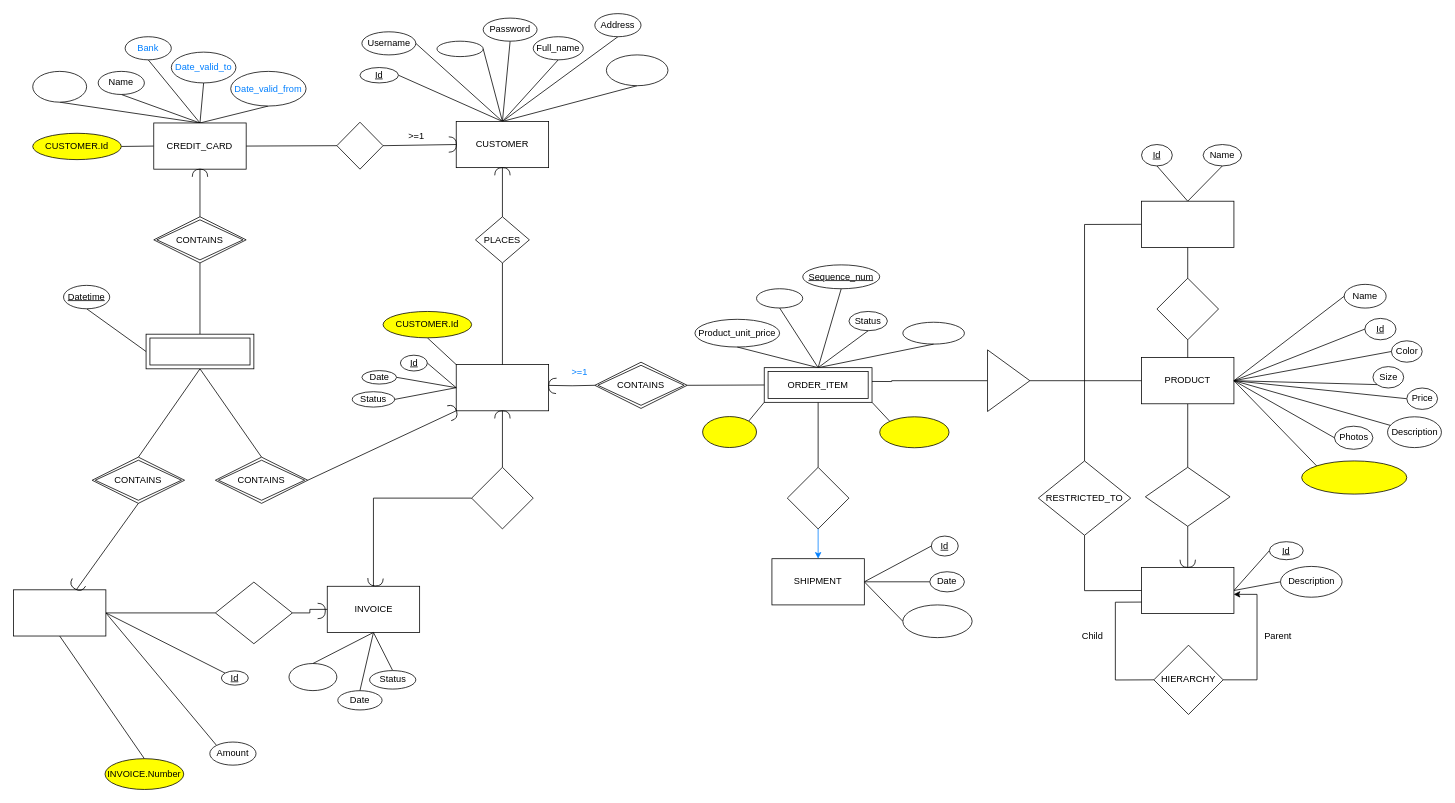
This 1455x803 diagram has some shape labels left out. Here are the shapes that lost their labels. From the top down, the centre of each, then its label:
the point at 459,48: Email
the point at 59,86: Card_num
the point at 637,70: Phone_num
the point at 359,145: HAS
the point at 1187,223: SHOP
the point at 779,298: Quantity
the point at 1187,308: SELLS
the point at 199,351: PAYMENT_RECORD
the point at 933,332: Order_price
the point at 502,387: ORDER
the point at 1008,380: Is-a
the point at 729,432: ORDER.Id
the point at 914,432: SHIPMENT.Id
the point at 1187,496: BELONGS_TO
the point at 1354,477: PRODUCT_TYPE.Id
the point at 502,498: ISSUES
the point at 818,498: Sent
the point at 1187,590: PRODUCT_TYPE
the point at 59,612: PAYMENT
the point at 253,612: MADE_FOR
the point at 937,621: Tracking_num
the point at 312,677: Number
